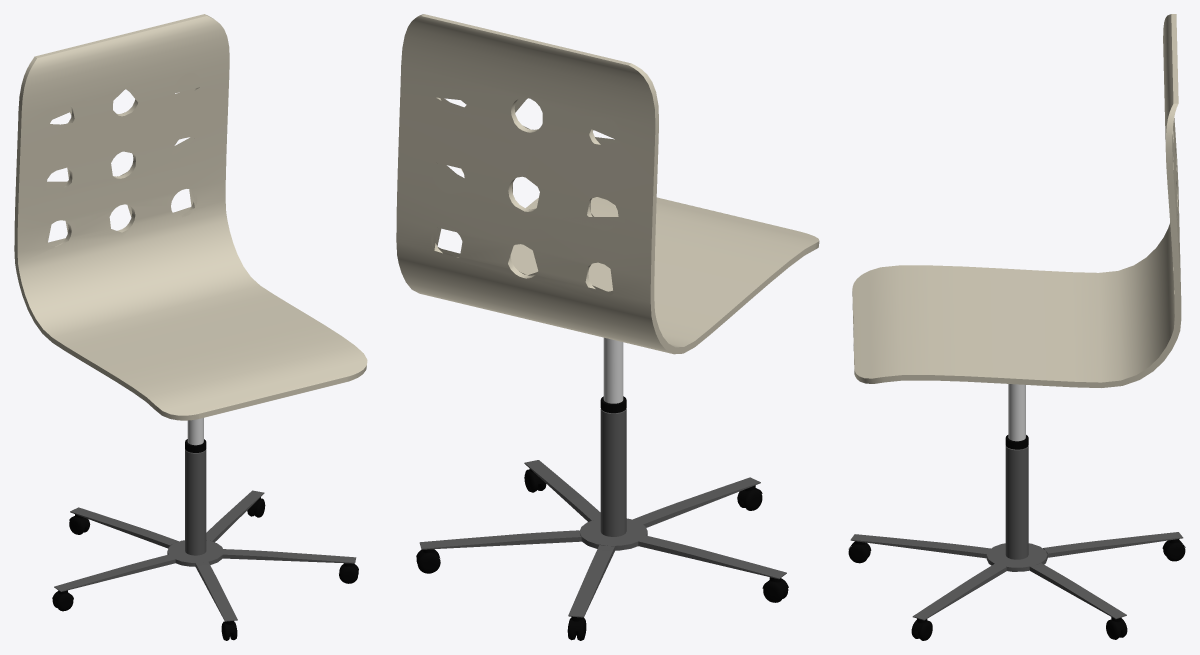
Rendered from IKEA-Jules_Swivel_Chair-3D.DAE.
3 renders of one model, left to right at view 1: azimuth 30°, elevation 25°; view 2: azimuth 150°, elevation 25°; view 3: azimuth 270°, elevation 25°, orthographic. The views are drawn at different scales.
Visible parts, largest first — view 1: Line01; view 2: Line01; view 3: Line01.
Boxes of the visible parts, x1,y1,x2,y2 form: Line01: (14,14,367,640); Line01: (396,14,819,640); Line01: (848,14,1185,640).
Bounding box in the file's own units: 613 × 1095 × 641.
